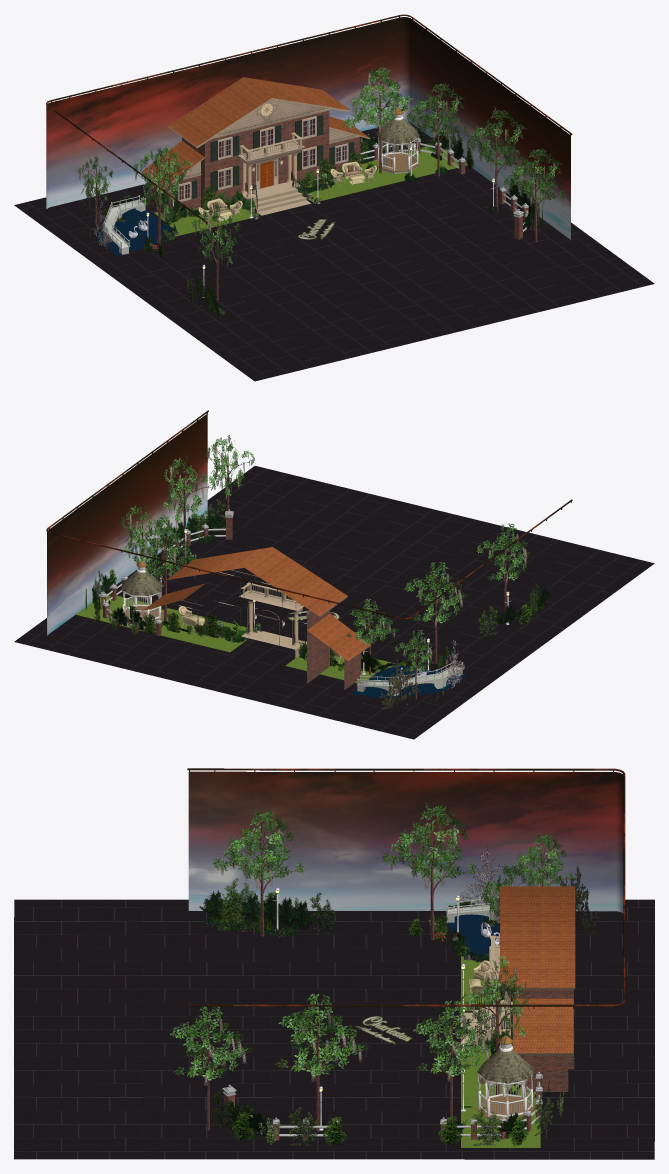
Rendered from wof_ch.glb.
The picture shows the model from 3 angles, top to bottom: view 1: azimuth 30°, elevation 25°; view 2: azimuth 150°, elevation 25°; view 3: azimuth 270°, elevation 25°; orthographic projection. The views are drawn at different scales.
Parts seen in each view (by area): view 1: reflect_floorShape, BackgroundShape, Tree_Shape1:0 (×8), BuildingShape:2, BuildingShape:1, BuildingShape:4, FloorShape:1, BushesShape:0, BuildingShape:6, BuildingShape:3, GazeboShape, pondShape (+6 smaller); view 2: reflect_floorShape, BackgroundShape, Tree_Shape1:0 (×8), BuildingShape:2, FloorShape:1, BushesShape:0, BushesShape:1, GazeboShape, BushesShape:5, BuildingShape:1, BushesShape:3, pondShape (+3 smaller); view 3: reflect_floorShape, BackgroundShape, Tree_Shape1:0 (×8), BuildingShape:2, BushesShape:1, BushesShape:0, FloorShape:1, GazeboShape, BuildingShape:1, BushesShape:3, BuildingShape:3, pondShape (+4 smaller).
Boxes of the visible parts, left/top/right/bottom form: reflect_floorShape: left=14, top=122, right=654, bottom=381; BackgroundShape: left=46, top=14, right=572, bottom=239; Tree_Shape1:0 (×8): left=77, top=66, right=565, bottom=267; BuildingShape:2: left=141, top=77, right=369, bottom=187; BuildingShape:1: left=149, top=110, right=360, bottom=213; BuildingShape:4: left=172, top=114, right=354, bottom=203; FloorShape:1: left=154, top=144, right=467, bottom=236; BushesShape:0: left=117, top=127, right=534, bottom=318; BuildingShape:6: left=176, top=99, right=359, bottom=180; BuildingShape:3: left=141, top=98, right=370, bottom=215; GazeboShape: left=376, top=108, right=420, bottom=173; pondShape: left=96, top=208, right=172, bottom=256; reflect_floorShape: left=14, top=466, right=654, bottom=739; BackgroundShape: left=46, top=410, right=572, bottom=636; Tree_Shape1:0 (×8): left=120, top=435, right=531, bottom=675; BuildingShape:2: left=142, top=547, right=370, bottom=661; FloorShape:1: left=76, top=593, right=397, bottom=683; BushesShape:0: left=92, top=512, right=550, bottom=685; BushesShape:1: left=85, top=499, right=539, bottom=666; GazeboShape: left=121, top=560, right=163, bottom=623; BushesShape:5: left=143, top=513, right=538, bottom=668; BuildingShape:1: left=307, top=610, right=360, bottom=689; BushesShape:3: left=379, top=638, right=464, bottom=709; pondShape: left=351, top=665, right=467, bottom=699; reflect_floorShape: left=14, top=899, right=654, bottom=1159; BackgroundShape: left=186, top=768, right=625, bottom=1008; Tree_Shape1:0 (×8): left=169, top=802, right=574, bottom=1085; BuildingShape:2: left=500, top=886, right=575, bottom=1053; BushesShape:1: left=212, top=878, right=563, bottom=1146; BushesShape:0: left=199, top=890, right=550, bottom=1139; FloorShape:1: left=461, top=956, right=540, bottom=1147; GazeboShape: left=475, top=1035, right=535, bottom=1121; BuildingShape:1: left=512, top=989, right=573, bottom=1091; BushesShape:3: left=448, top=846, right=598, bottom=933; BuildingShape:3: left=460, top=935, right=575, bottom=1054; pondShape: left=444, top=914, right=499, bottom=955.
Size of the model in its own units: 2881 by 822 by 3003.
33 materials, 33 textured.
